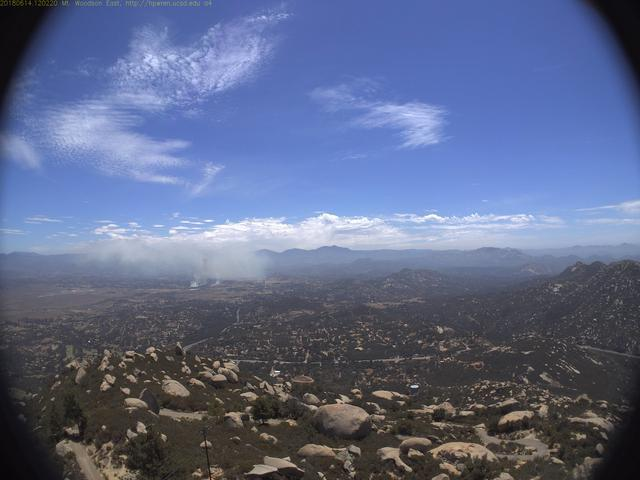smoke: (63, 222, 272, 293)
